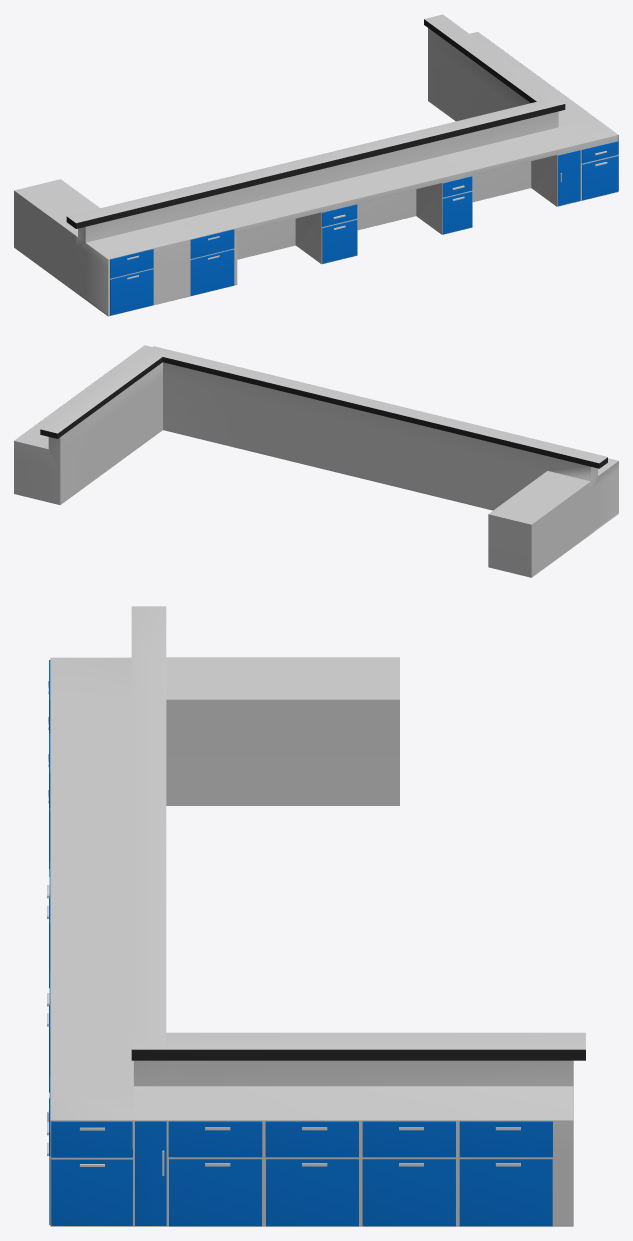
File: Blood_Analysis_Table.fbx
3 renders of one model, top to bottom at view 1: azimuth 30°, elevation 25°; view 2: azimuth 150°, elevation 25°; view 3: azimuth 270°, elevation 25°, orthographic. The views are drawn at different scales.
Visible parts, largest first — view 1: Table_Blood_Analysis; view 2: Table_Blood_Analysis; view 3: Table_Blood_Analysis.
Boxes of the visible parts, <box> form: Table_Blood_Analysis: <box>14,14,618,316</box>; Table_Blood_Analysis: <box>14,345,618,577</box>; Table_Blood_Analysis: <box>47,606,585,1226</box>.
Size of the model in its own units: 920 by 134 by 443.
